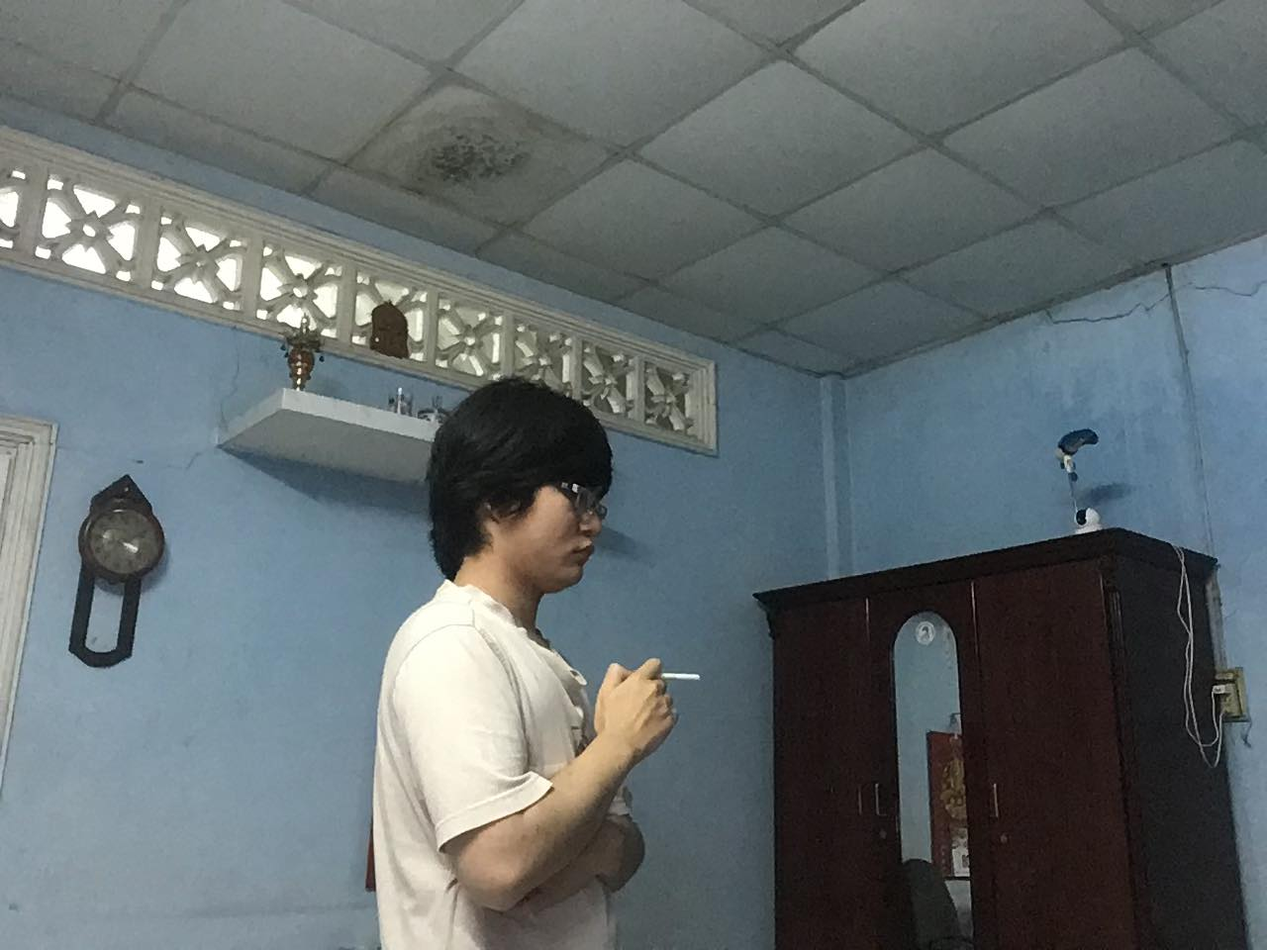cigarette: (662, 670, 704, 684)
person: (369, 370, 692, 949)
